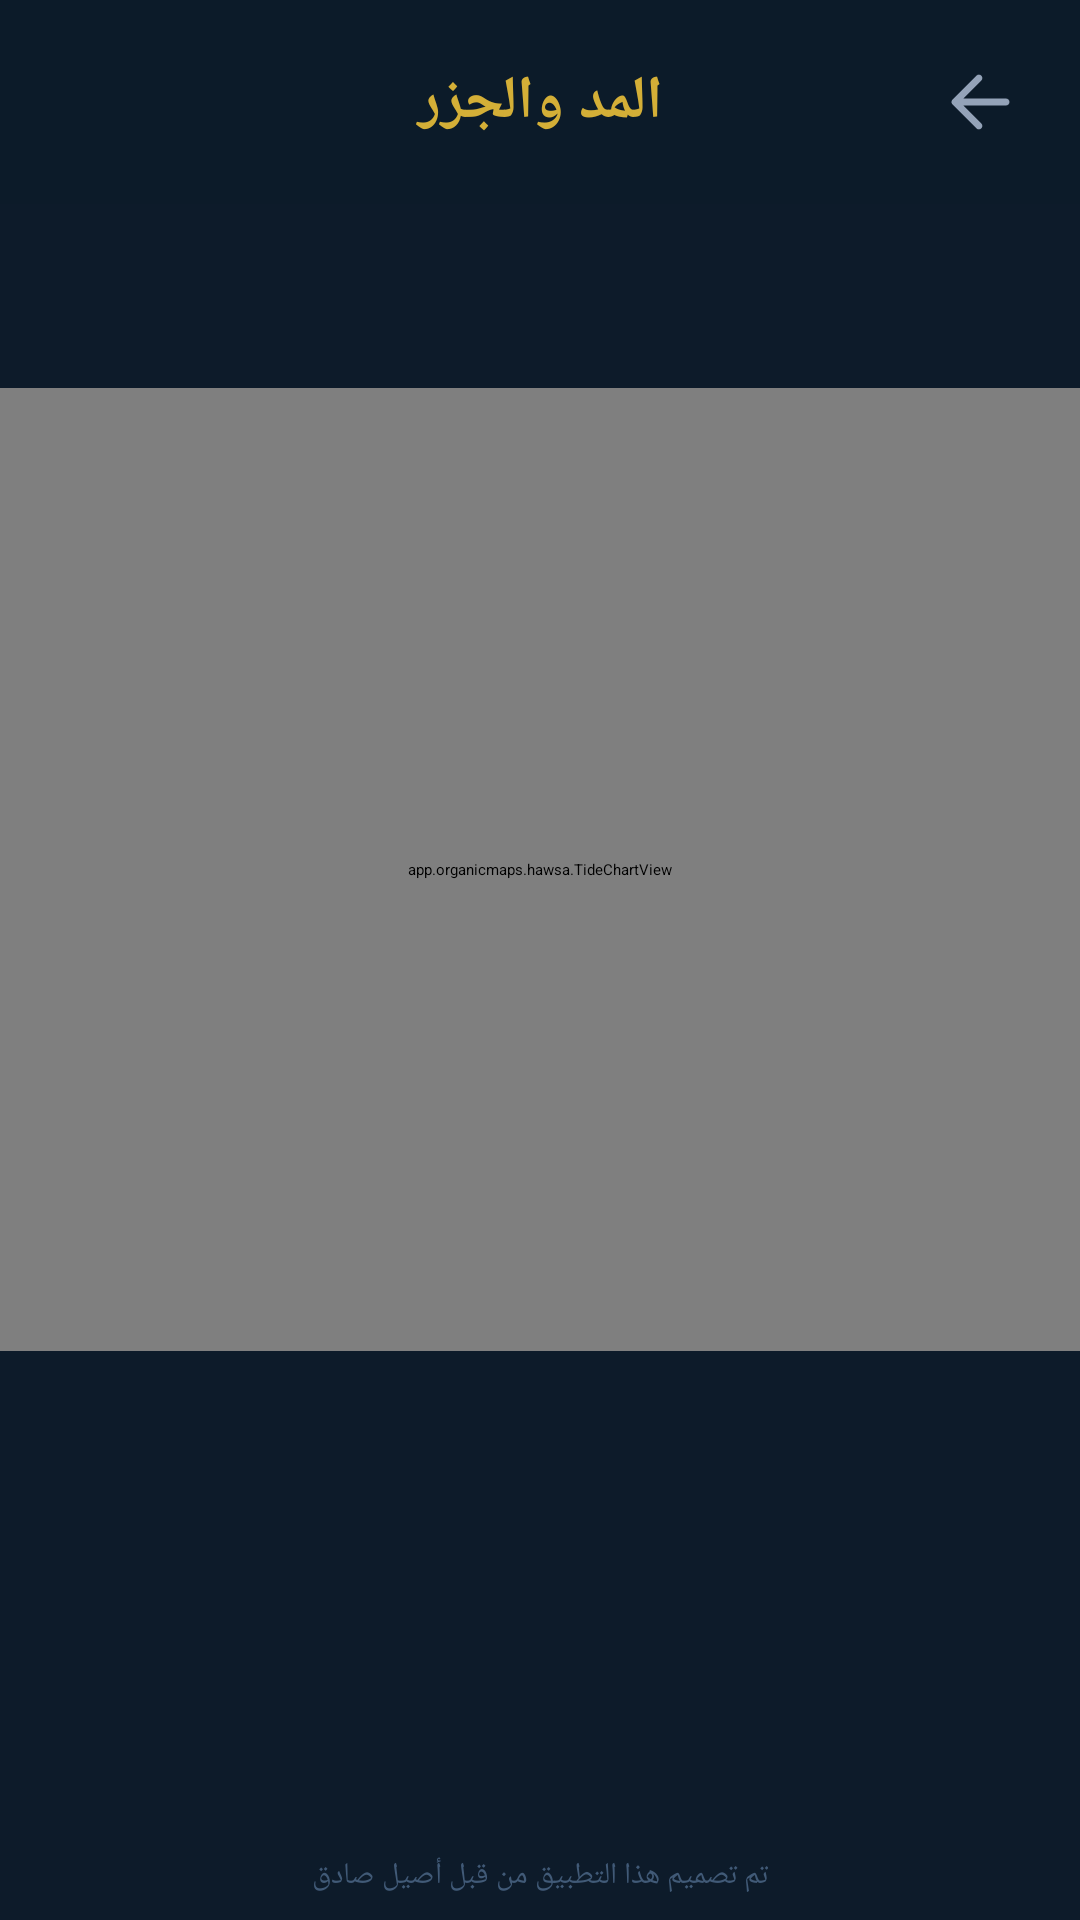

Icon bounding boxes for this 1080px x 1920px phone screenshot, format (x1, y1, x2, y2):
رجوع: (951, 74, 1010, 130)
